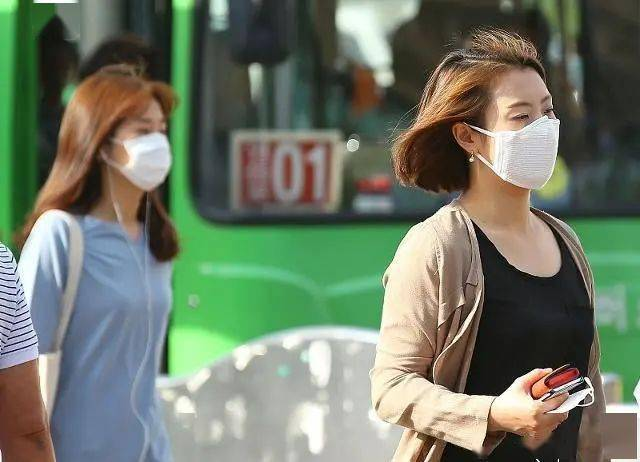mask: (474, 67, 560, 191), (113, 98, 173, 193)
